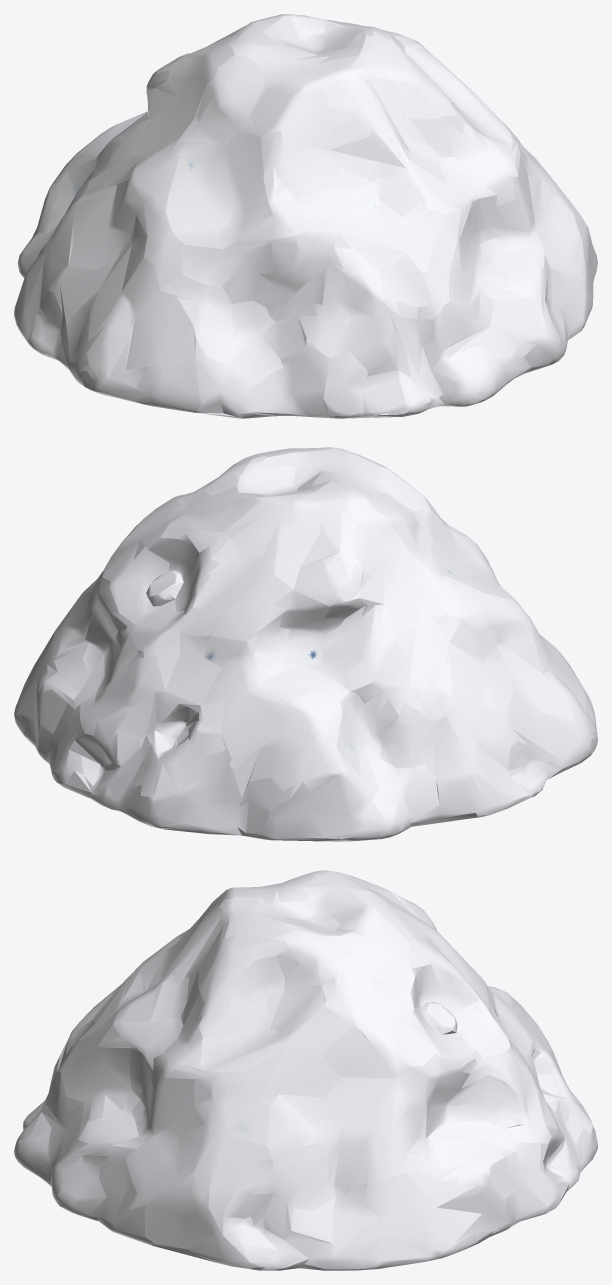
3 renders of one model, top to bottom at view 1: azimuth 30°, elevation 25°; view 2: azimuth 150°, elevation 25°; view 3: azimuth 270°, elevation 25°, orthographic. The views are drawn at different scales.
Visible parts, largest first — view 1: output_unwrapped; view 2: output_unwrapped; view 3: output_unwrapped.
Part boxes in pixels (bbox=[...]): output_unwrapped: bbox=[14, 14, 597, 418]; output_unwrapped: bbox=[14, 447, 597, 841]; output_unwrapped: bbox=[14, 870, 597, 1270].
Size of the model in its own units: 1.89 by 0.9127 by 1.9.
1 material, 1 textured.
